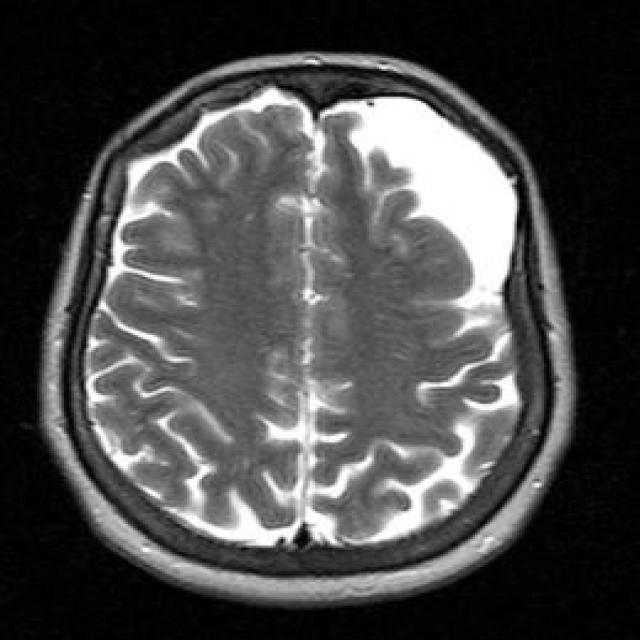Tumor-Cell: (359, 96, 511, 301)
